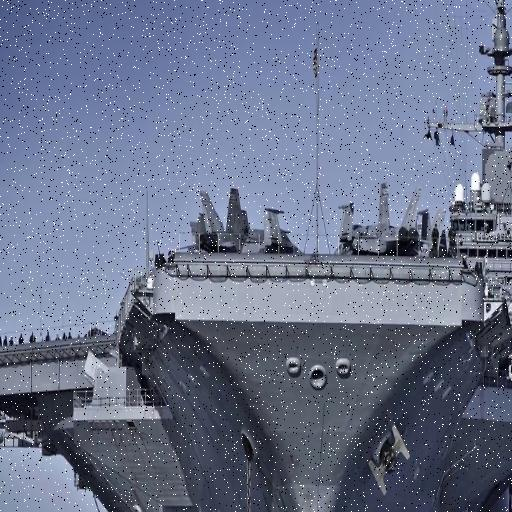Portanaves: (3, 1, 512, 512)
